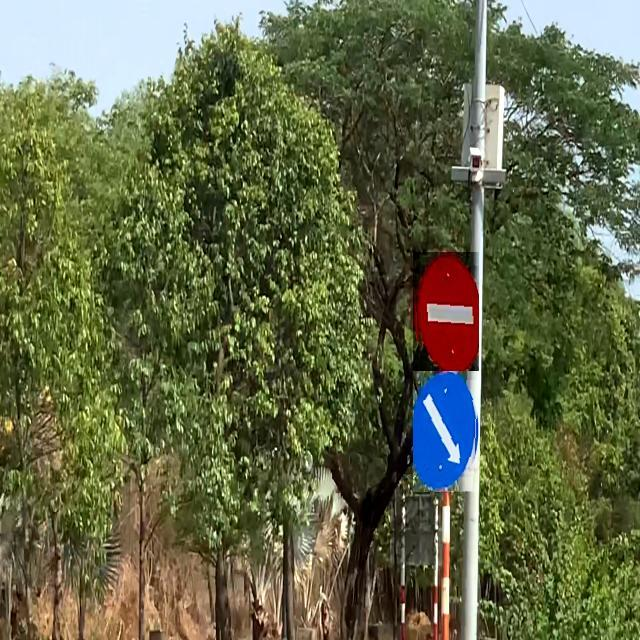P-102: (413, 252, 479, 372)
R-302a: (413, 371, 479, 492)
